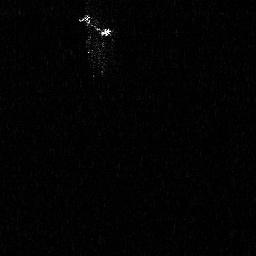ship: (77, 11, 113, 39)
